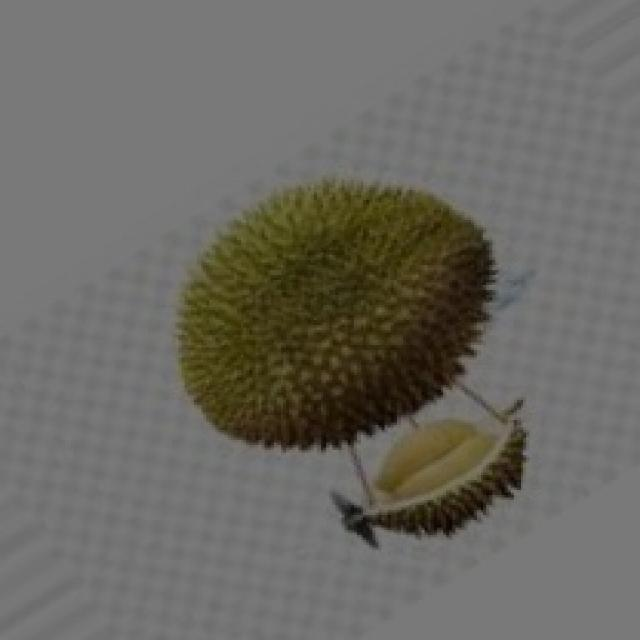fruit: (129, 138, 520, 498)
